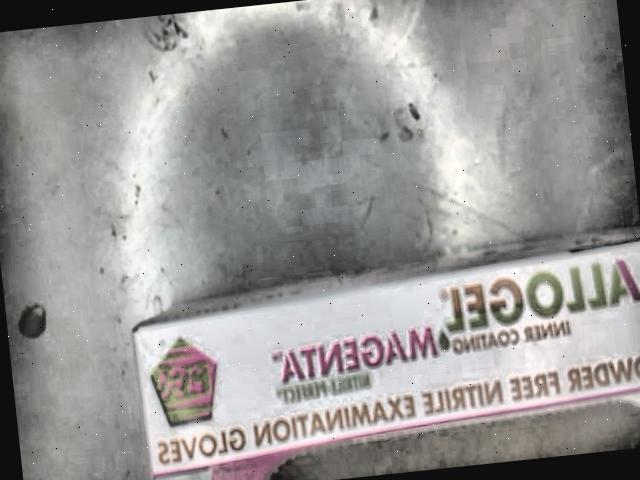Paper: (134, 223, 640, 480)
